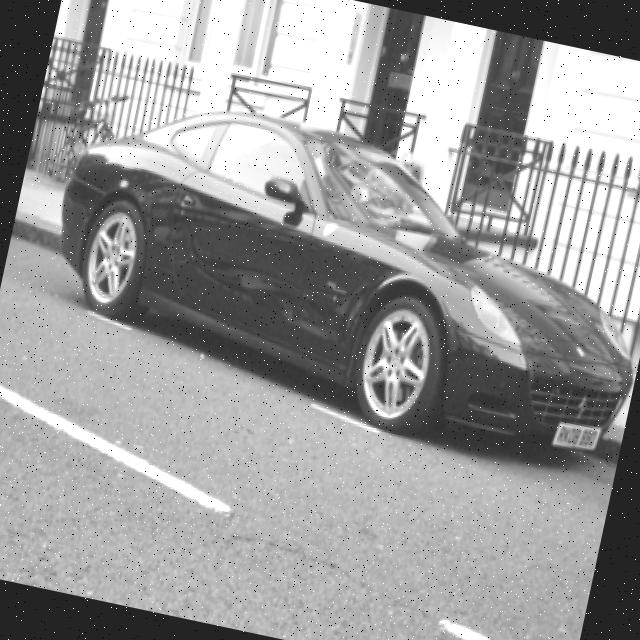Autre: (551, 422, 603, 452)
